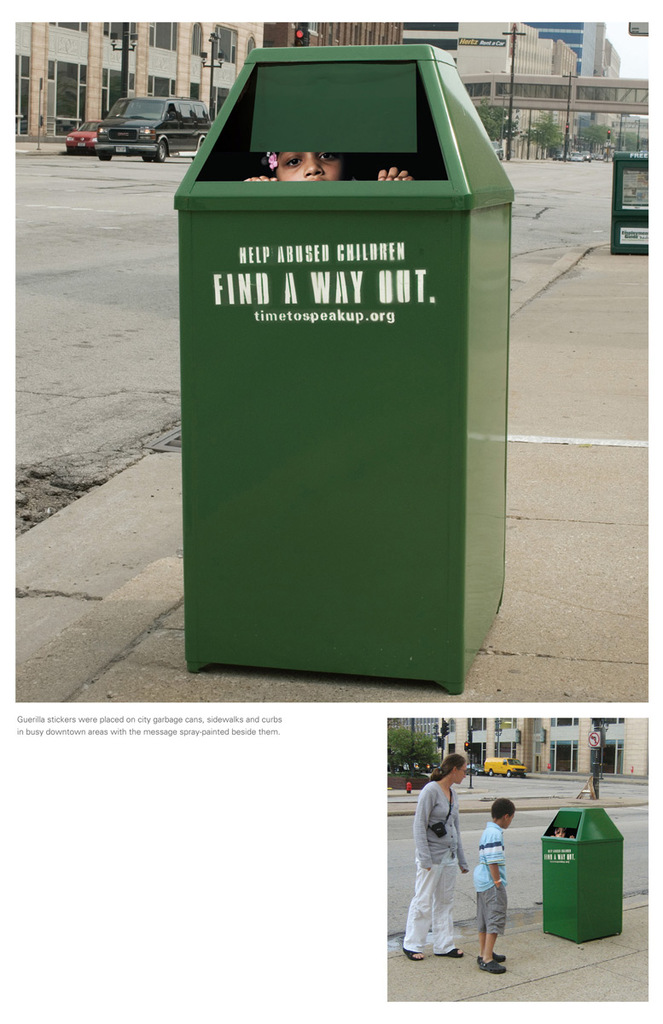Person: (398, 754, 469, 965), (472, 795, 516, 973), (243, 152, 413, 182)
